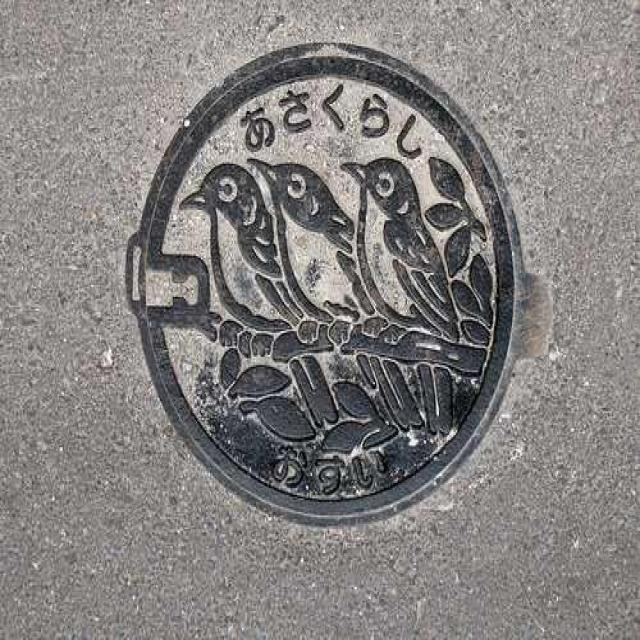manhole: (126, 45, 521, 522)
